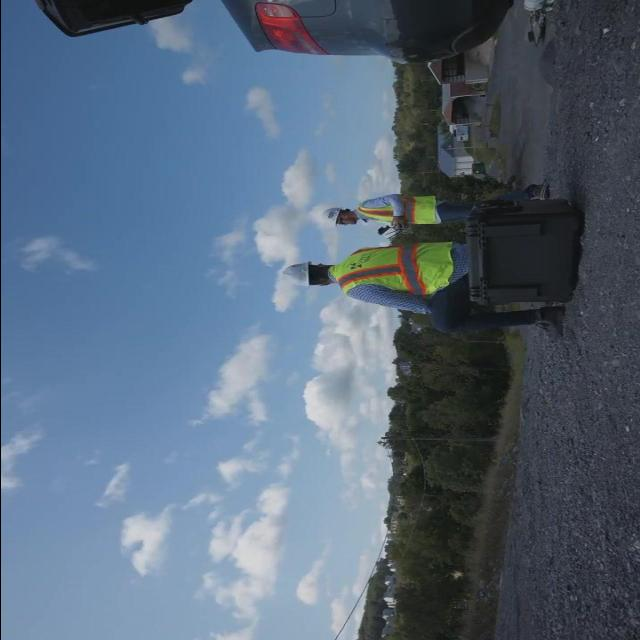helmet: (276, 253, 324, 290), (317, 198, 349, 228)
jacket: (334, 238, 466, 300), (356, 192, 442, 228)
